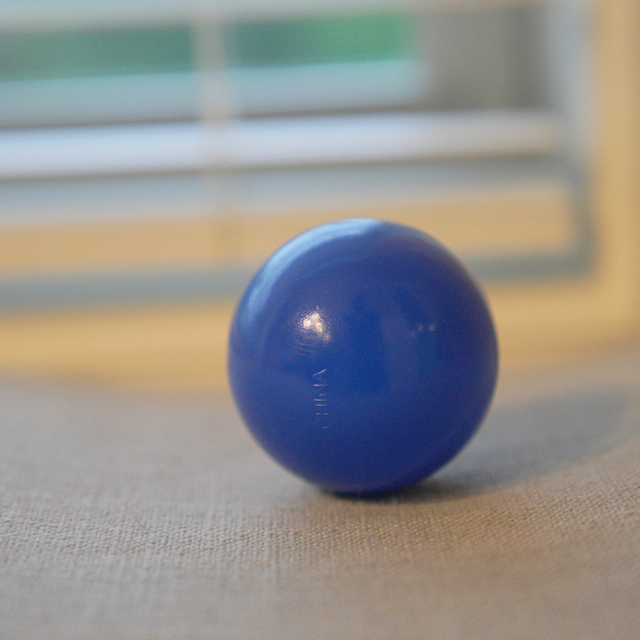Ball: (226, 216, 501, 500)
